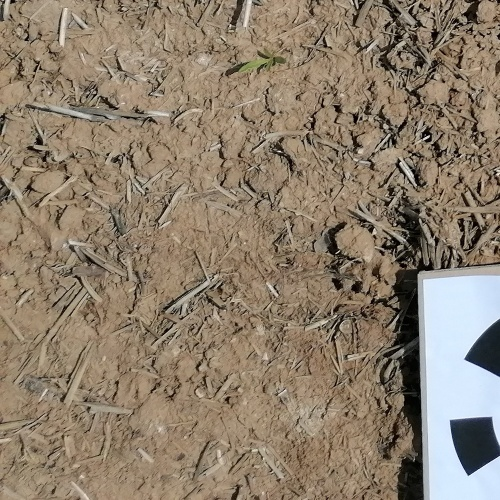beet: (238, 46, 287, 73)
